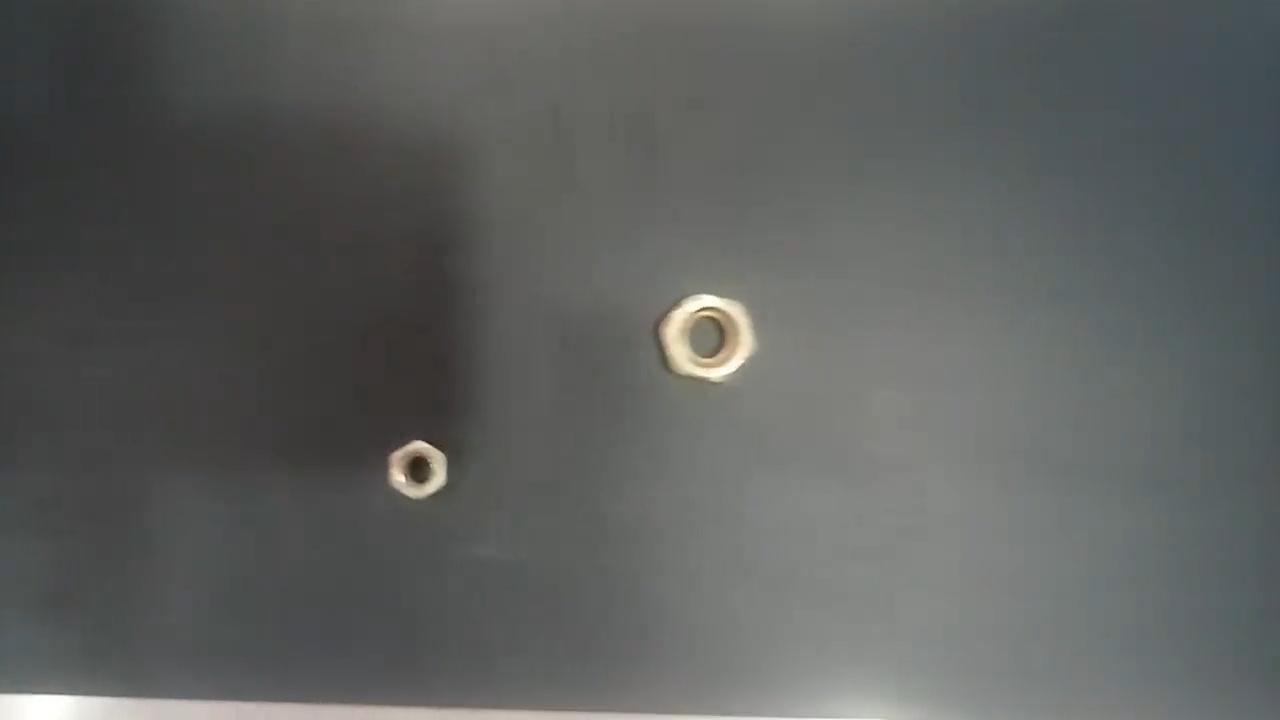Bolt: (653, 290, 758, 383), (384, 434, 455, 502)
